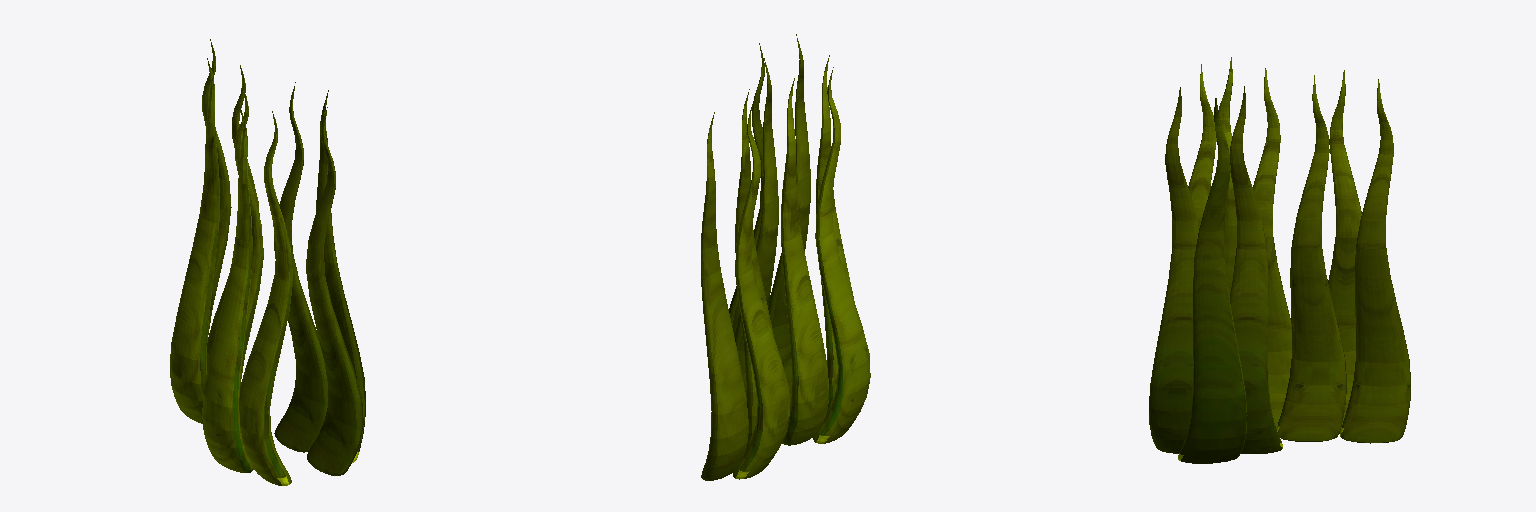
3 views of the same model, side by side, from view 1: azimuth 30°, elevation 25°; view 2: azimuth 150°, elevation 25°; view 3: azimuth 270°, elevation 25° (orthographic).
Parts seen in each view (by area): view 1: pCone16; view 2: pCone16; view 3: pCone16.
Part boxes in pixels (x1,y1,x2,y2): pCone16: (170,39,365,485); pCone16: (701,34,870,480); pCone16: (1149,57,1410,463).
Bounding box in the file's own units: 0.2615 × 0.6365 × 0.4171.
1 materials, 1 textured.